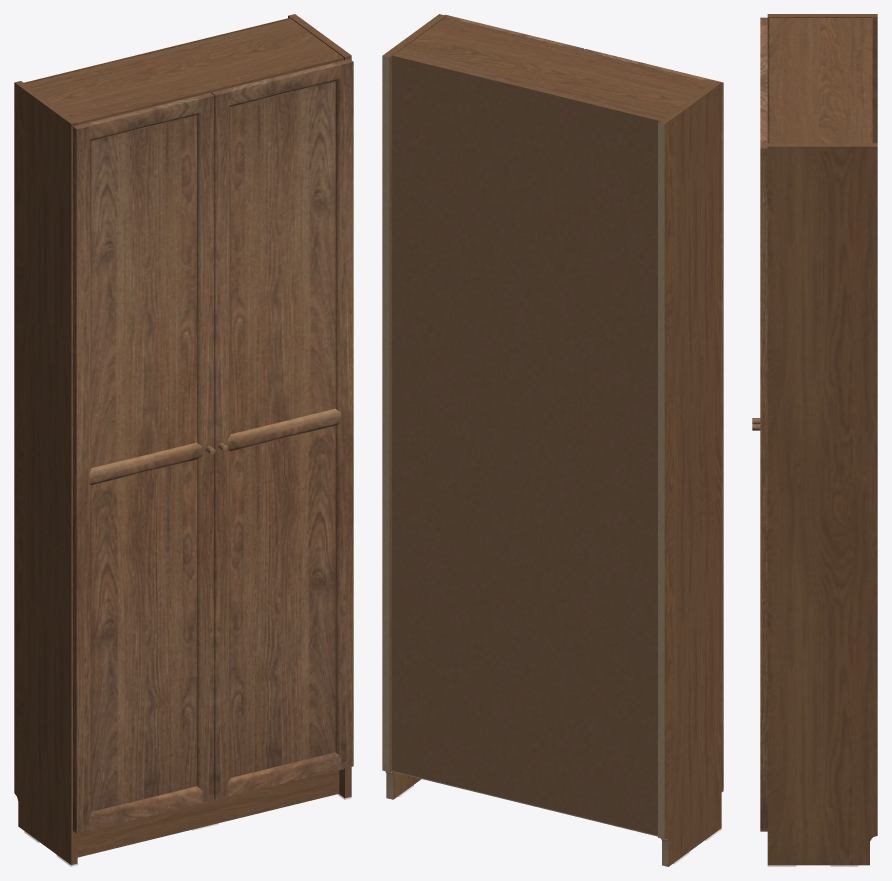
File: 38 - BILLY OXBERG Bookcase with doors - brown walnut effect 80x30x202 cm.glb
3 renders of one model, left to right at view 1: azimuth 30°, elevation 25°; view 2: azimuth 150°, elevation 25°; view 3: azimuth 270°, elevation 25°, orthographic. The views are drawn at different scales.
Visible parts, largest first — view 1: Mesh_0; view 2: Mesh_0; view 3: Mesh_0.
Boxes of the visible parts, bbox=[...] form: Mesh_0: bbox=[14, 14, 353, 864]; Mesh_0: bbox=[382, 14, 723, 866]; Mesh_0: bbox=[752, 14, 877, 865].
Size of the model in its own units: 0.8003 by 2.02 by 0.3197.
2 materials, 1 textured.
